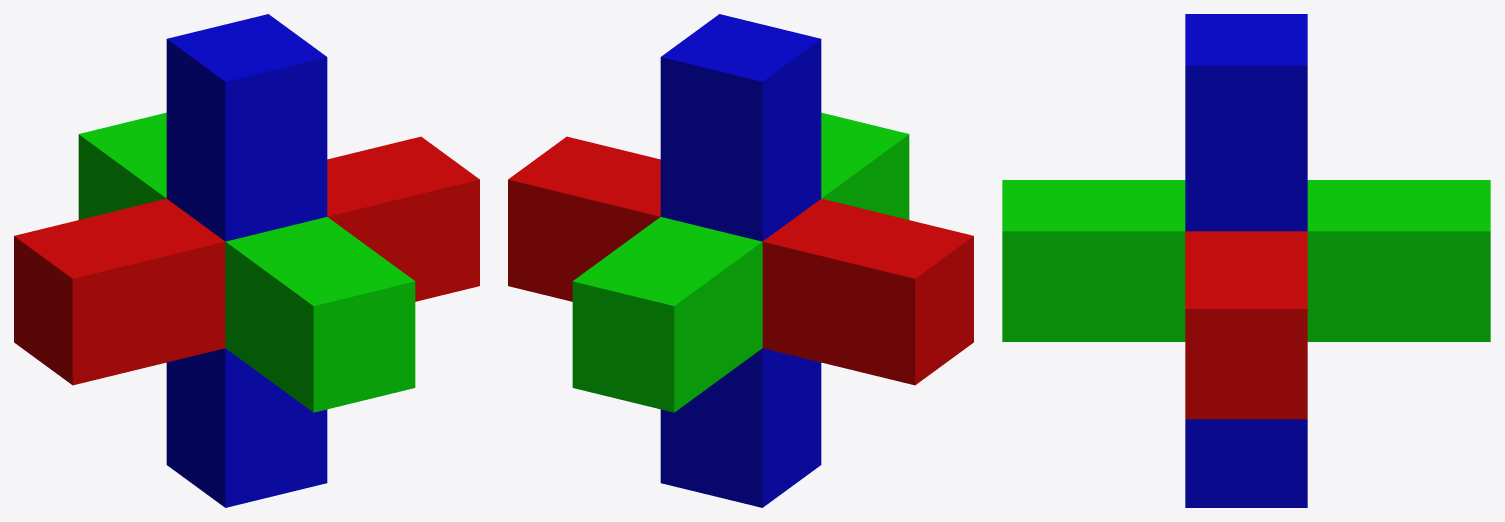
The model's file is xyz.obj.
The picture shows the model from 3 angles, left to right: view 1: azimuth 30°, elevation 25°; view 2: azimuth 150°, elevation 25°; view 3: azimuth 270°, elevation 25°; orthographic projection. The views are drawn at different scales.
Parts seen in each view (by area): view 1: Cube_Mesh; view 2: Cube_Mesh; view 3: Cube_Mesh.
Part boxes in pixels (x1,y1,x2,y2): Cube_Mesh: (14, 14, 479, 507); Cube_Mesh: (508, 14, 973, 507); Cube_Mesh: (1002, 14, 1490, 507).
Bounding box in the file's own units: 4 × 4 × 4.
